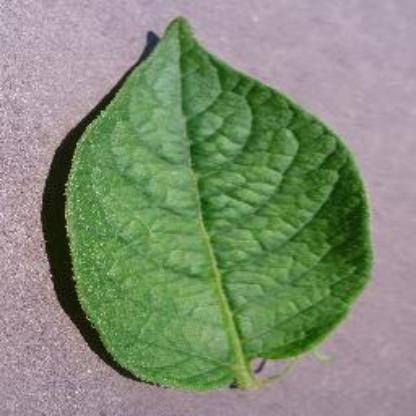Healthy-plant: (59, 13, 392, 400)
